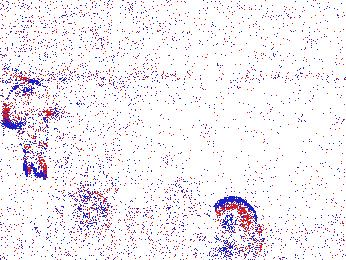flame jellyfish: (1, 81, 63, 179), (210, 196, 259, 249), (63, 190, 111, 239)
